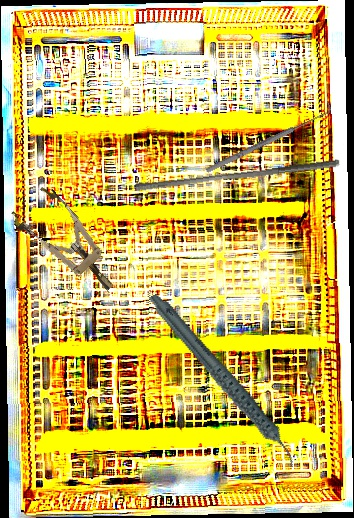Handpiece: (145, 271, 299, 492)
Hook Surgical: (202, 101, 335, 176)
Pusher: (134, 150, 341, 200)
Speculum: (7, 181, 129, 307)
